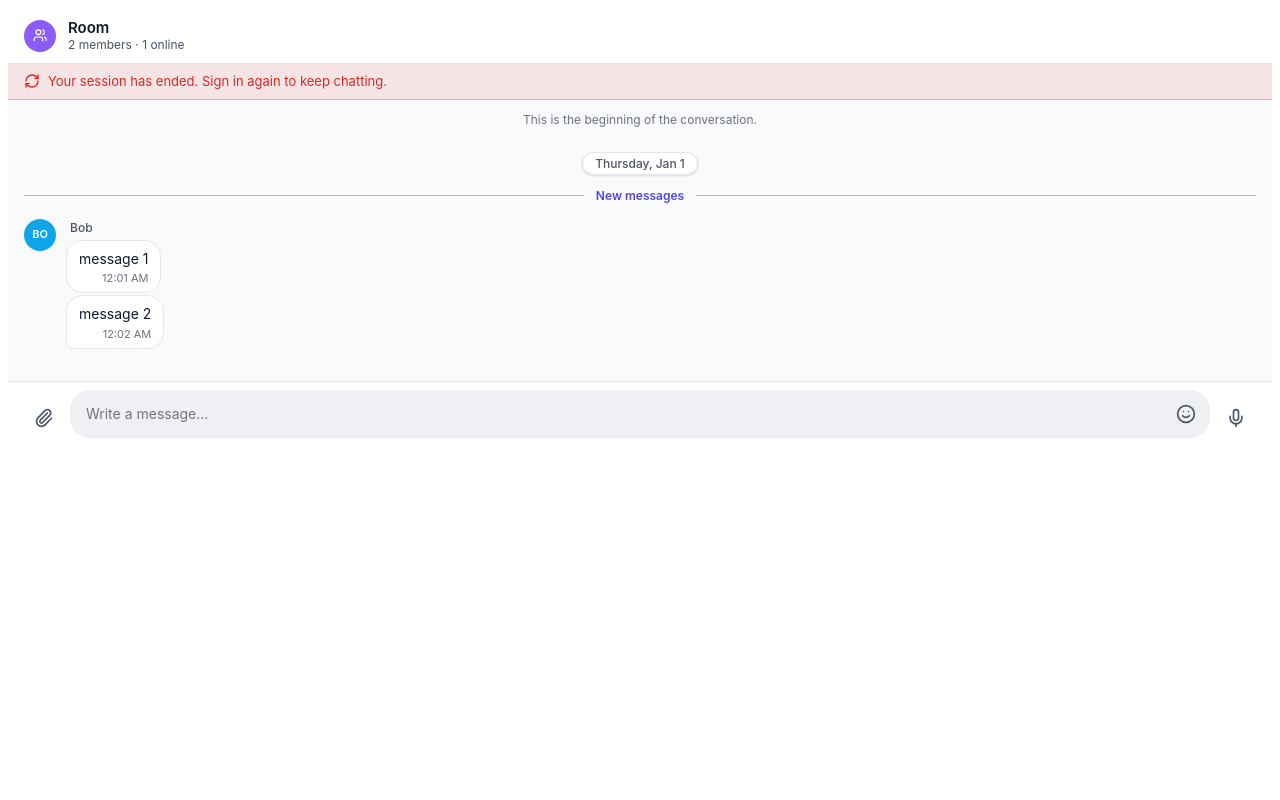
React components › shows retry for failed messages and retries with the same client id
In the text box labelled "Write a message…": (626, 414) [86, 404, 1166, 424], type "hello"
Then press Enter
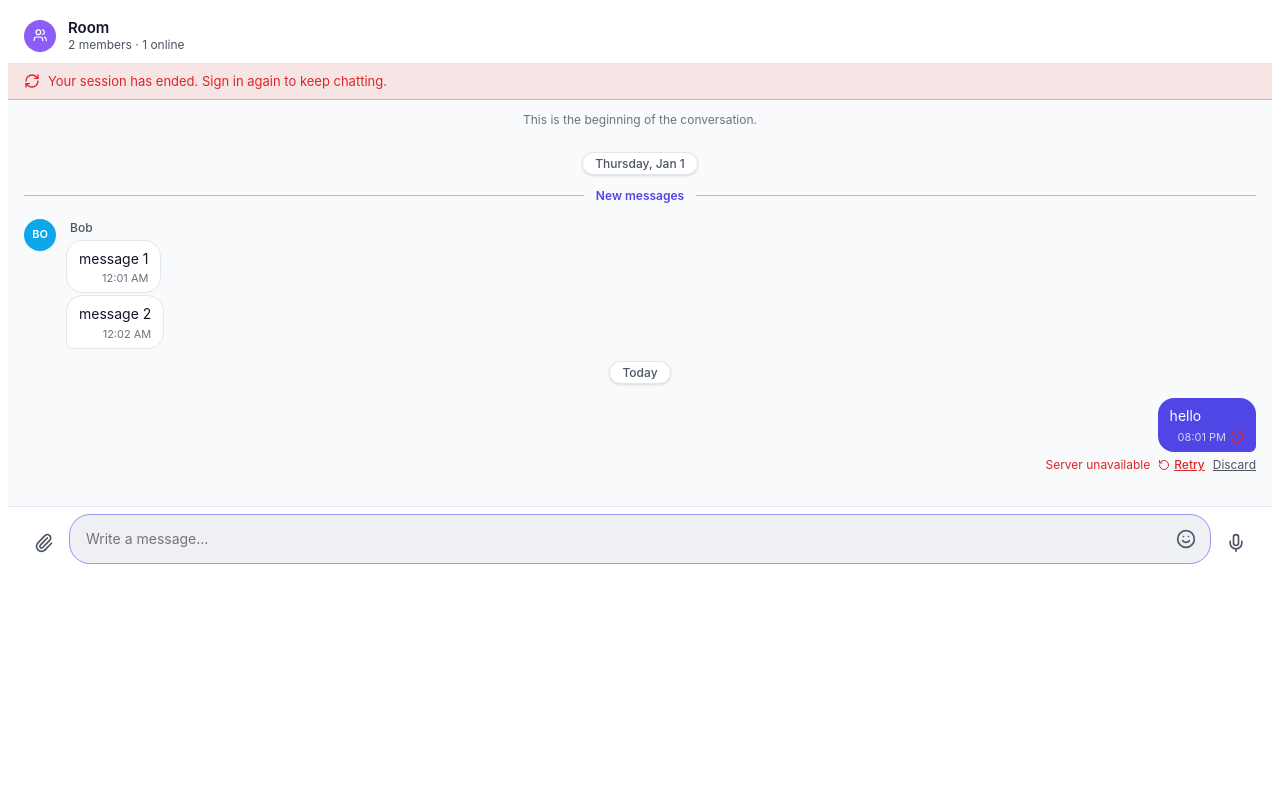
Expected: the text "Server unavailable" is shown, [1046, 456, 1150, 474]
Click the button "Retry": (1181, 465) [1158, 456, 1205, 474]
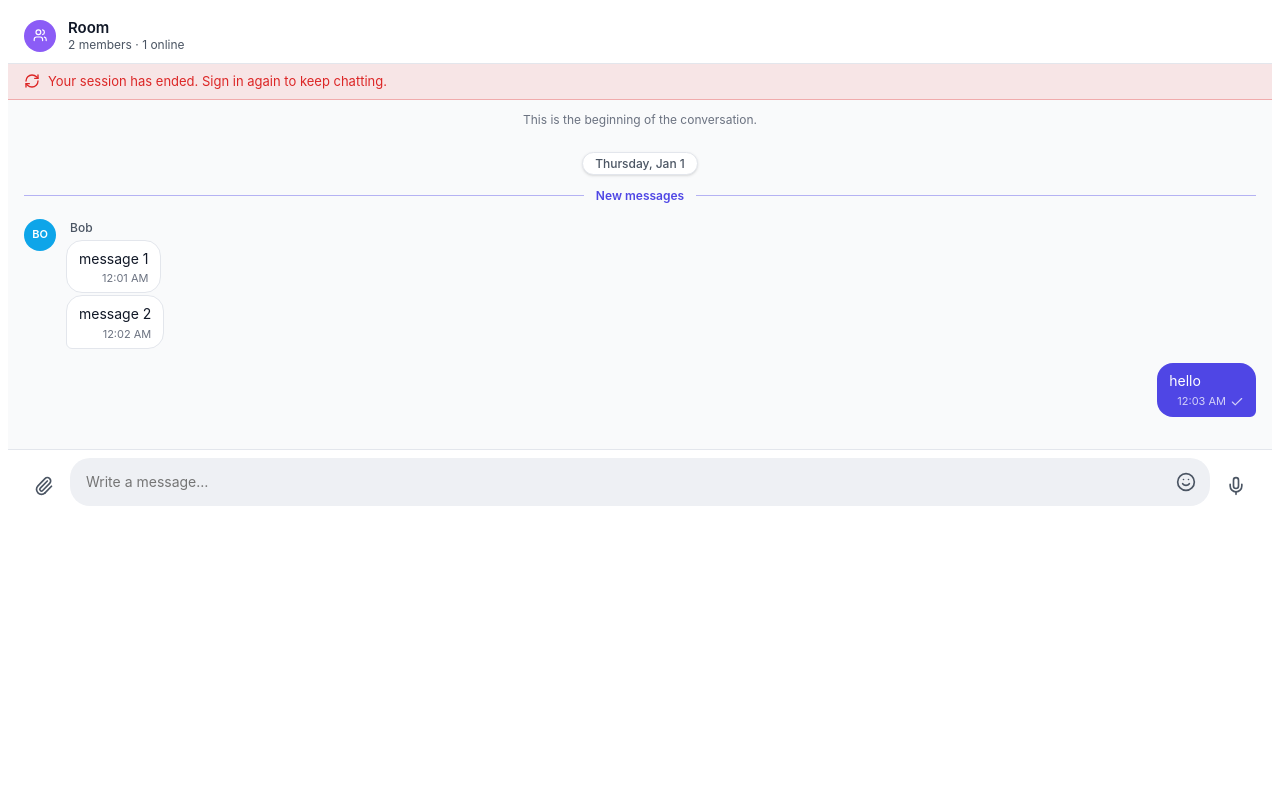
Expected: the text "Server unavailable" is gone
